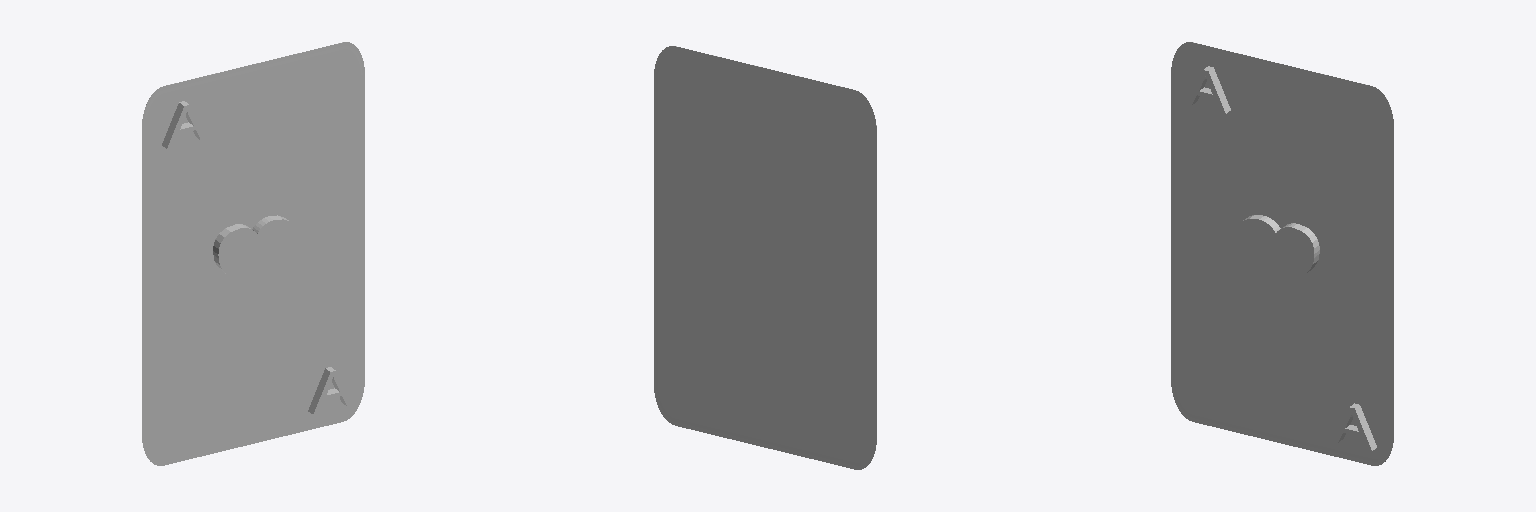
Rendered from ace_hearts.obj.
3 renders of one model, left to right at view 1: azimuth 30°, elevation 25°; view 2: azimuth 150°, elevation 25°; view 3: azimuth 330°, elevation 25°, orthographic.
Visible parts, largest first — view 1: obj_0; view 2: obj_0; view 3: obj_0.
Part boxes in pixels (x1,y1,x2,y2): obj_0: (142, 42, 364, 465); obj_0: (654, 46, 876, 469); obj_0: (1171, 42, 1393, 465).
Size of the model in its own units: 24 by 39 by 1.